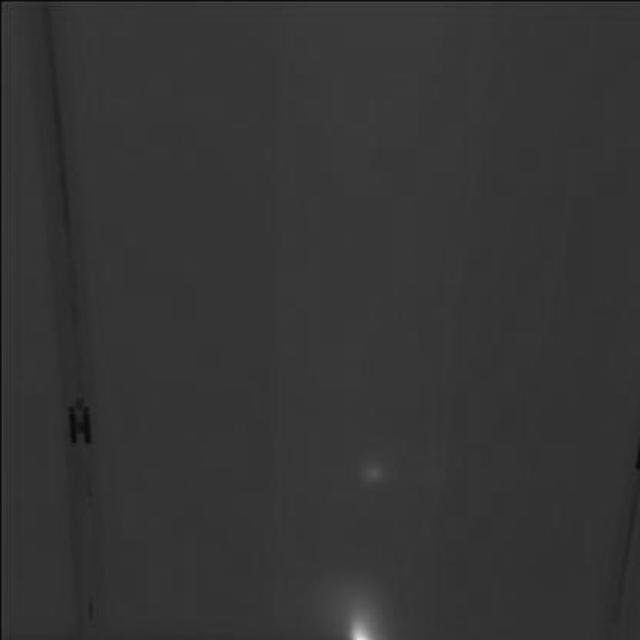hotspot: (333, 611, 376, 638)
